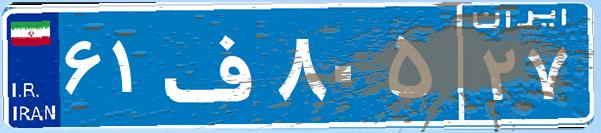0: (330, 28, 385, 110)
1: (110, 28, 158, 105)
2: (475, 38, 525, 113)
5: (385, 28, 445, 110)
6: (57, 26, 110, 107)
7: (525, 38, 570, 115)
8: (273, 28, 330, 110)
ف: (158, 15, 273, 115)
